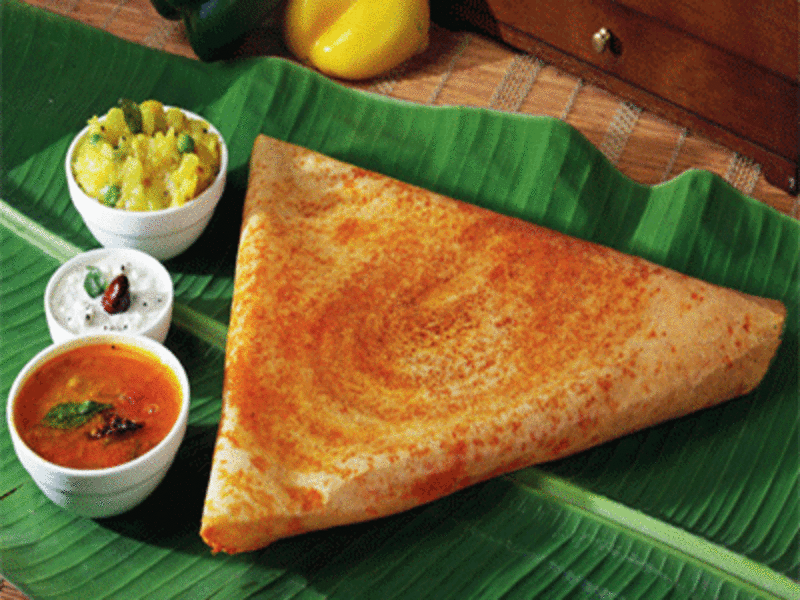dosa: (189, 70, 791, 569)
